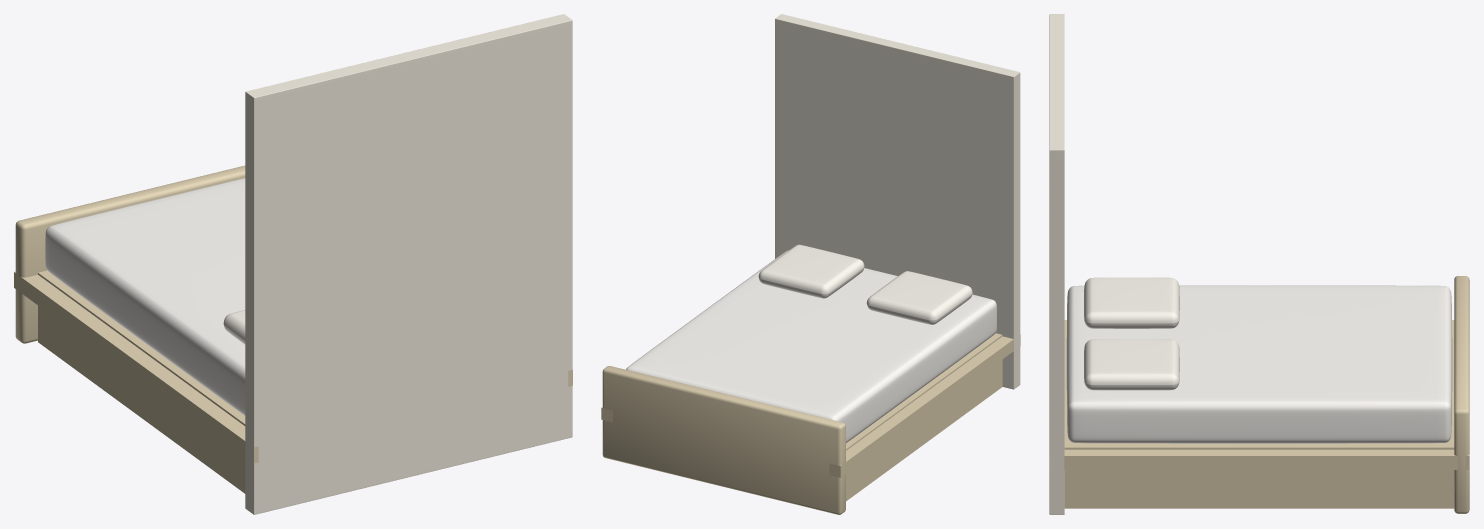
The picture shows the model from 3 angles, left to right: view 1: azimuth 30°, elevation 25°; view 2: azimuth 150°, elevation 25°; view 3: azimuth 270°, elevation 25°; orthographic projection. The views are drawn at different scales.
Visible parts, largest first — view 1: Headboard, Mattress, BedFrame, Footboard; view 2: Headboard, Mattress, Footboard, BedFrame, Pillow, Pillow.001; view 3: Mattress, BedFrame, Headboard, Pillow.001, Pillow, Footboard.
Boxes of the visible parts, <box> form: Headboard: <box>245,14,572,514</box>; Mattress: <box>45,178,245,415</box>; BedFrame: <box>14,270,572,493</box>; Footboard: <box>15,165,245,343</box>; Headboard: <box>775,14,1020,389</box>; Mattress: <box>626,250,996,442</box>; Footboard: <box>602,366,845,514</box>; BedFrame: <box>601,333,1020,501</box>; Pillow: <box>866,271,972,324</box>; Pillow.001: <box>758,244,864,298</box>; Mattress: <box>1066,285,1452,443</box>; BedFrame: <box>1049,320,1469,508</box>; Headboard: <box>1049,14,1064,514</box>; Pillow.001: <box>1084,339,1179,390</box>; Pillow: <box>1084,277,1179,328</box>; Footboard: <box>1454,276,1469,513</box>.
Size of the model in its own units: 1.68 by 2.1 by 2.19.
